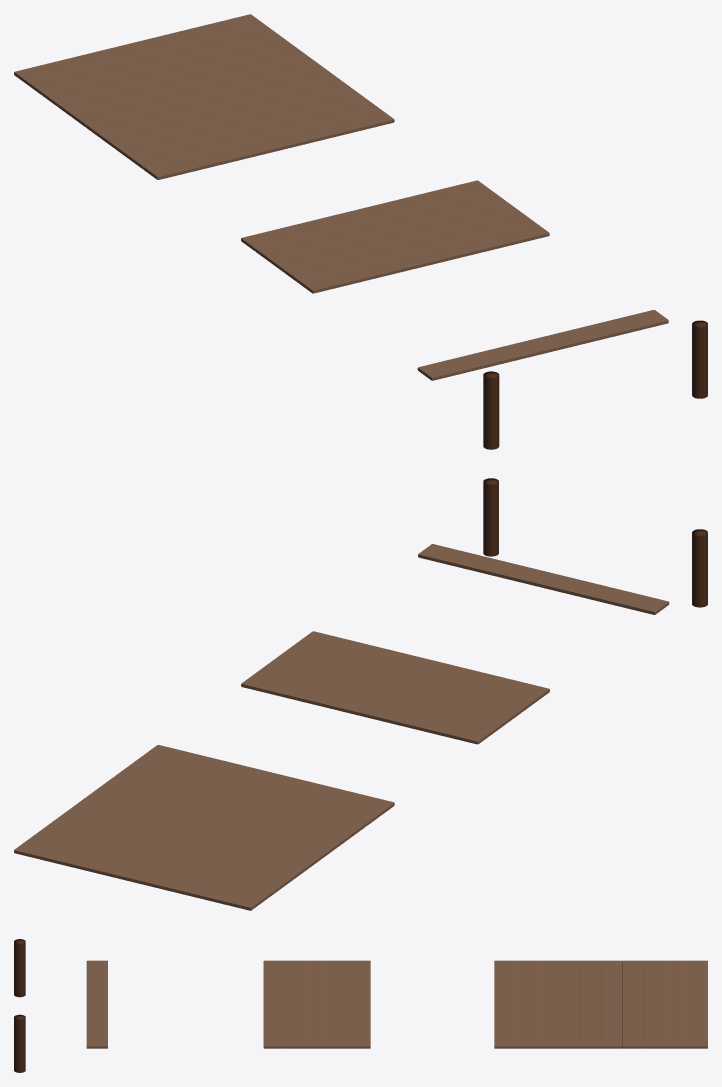
File: Bridge Pieces.fbx
3 renders of one model, top to bottom at view 1: azimuth 30°, elevation 25°; view 2: azimuth 150°, elevation 25°; view 3: azimuth 270°, elevation 25°, orthographic. The views are drawn at different scales.
Parts seen in each view (by area): view 1: Cube.002, Cube.001, Cube, Cylinder; view 2: Cube.002, Cube.001, Cube, Cylinder; view 3: Cube.002, Cube.001, Cube, Cylinder.
Part boxes in pixels (bbox=[...]): Cube.002: bbox=[14, 14, 394, 179]; Cube.001: bbox=[241, 180, 549, 293]; Cube: bbox=[417, 310, 668, 380]; Cylinder: bbox=[483, 320, 707, 449]; Cube.002: bbox=[14, 745, 394, 910]; Cube.001: bbox=[241, 631, 549, 744]; Cube: bbox=[418, 544, 669, 614]; Cylinder: bbox=[483, 478, 707, 607]; Cube.002: bbox=[494, 960, 707, 1048]; Cube.001: bbox=[263, 960, 370, 1048]; Cube: bbox=[86, 960, 107, 1048]; Cylinder: bbox=[14, 939, 25, 1072].
Bounding box in the file's own units: 693 × 200 × 2366.
